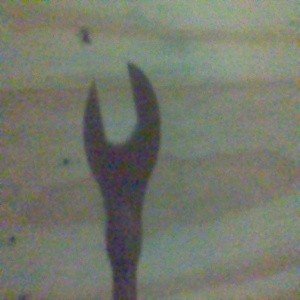spanner: (81, 63, 163, 300)
